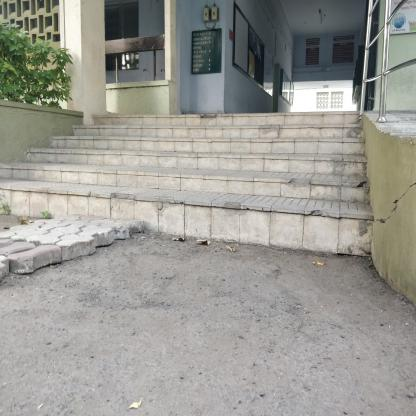stairs: (93, 116, 357, 252)
